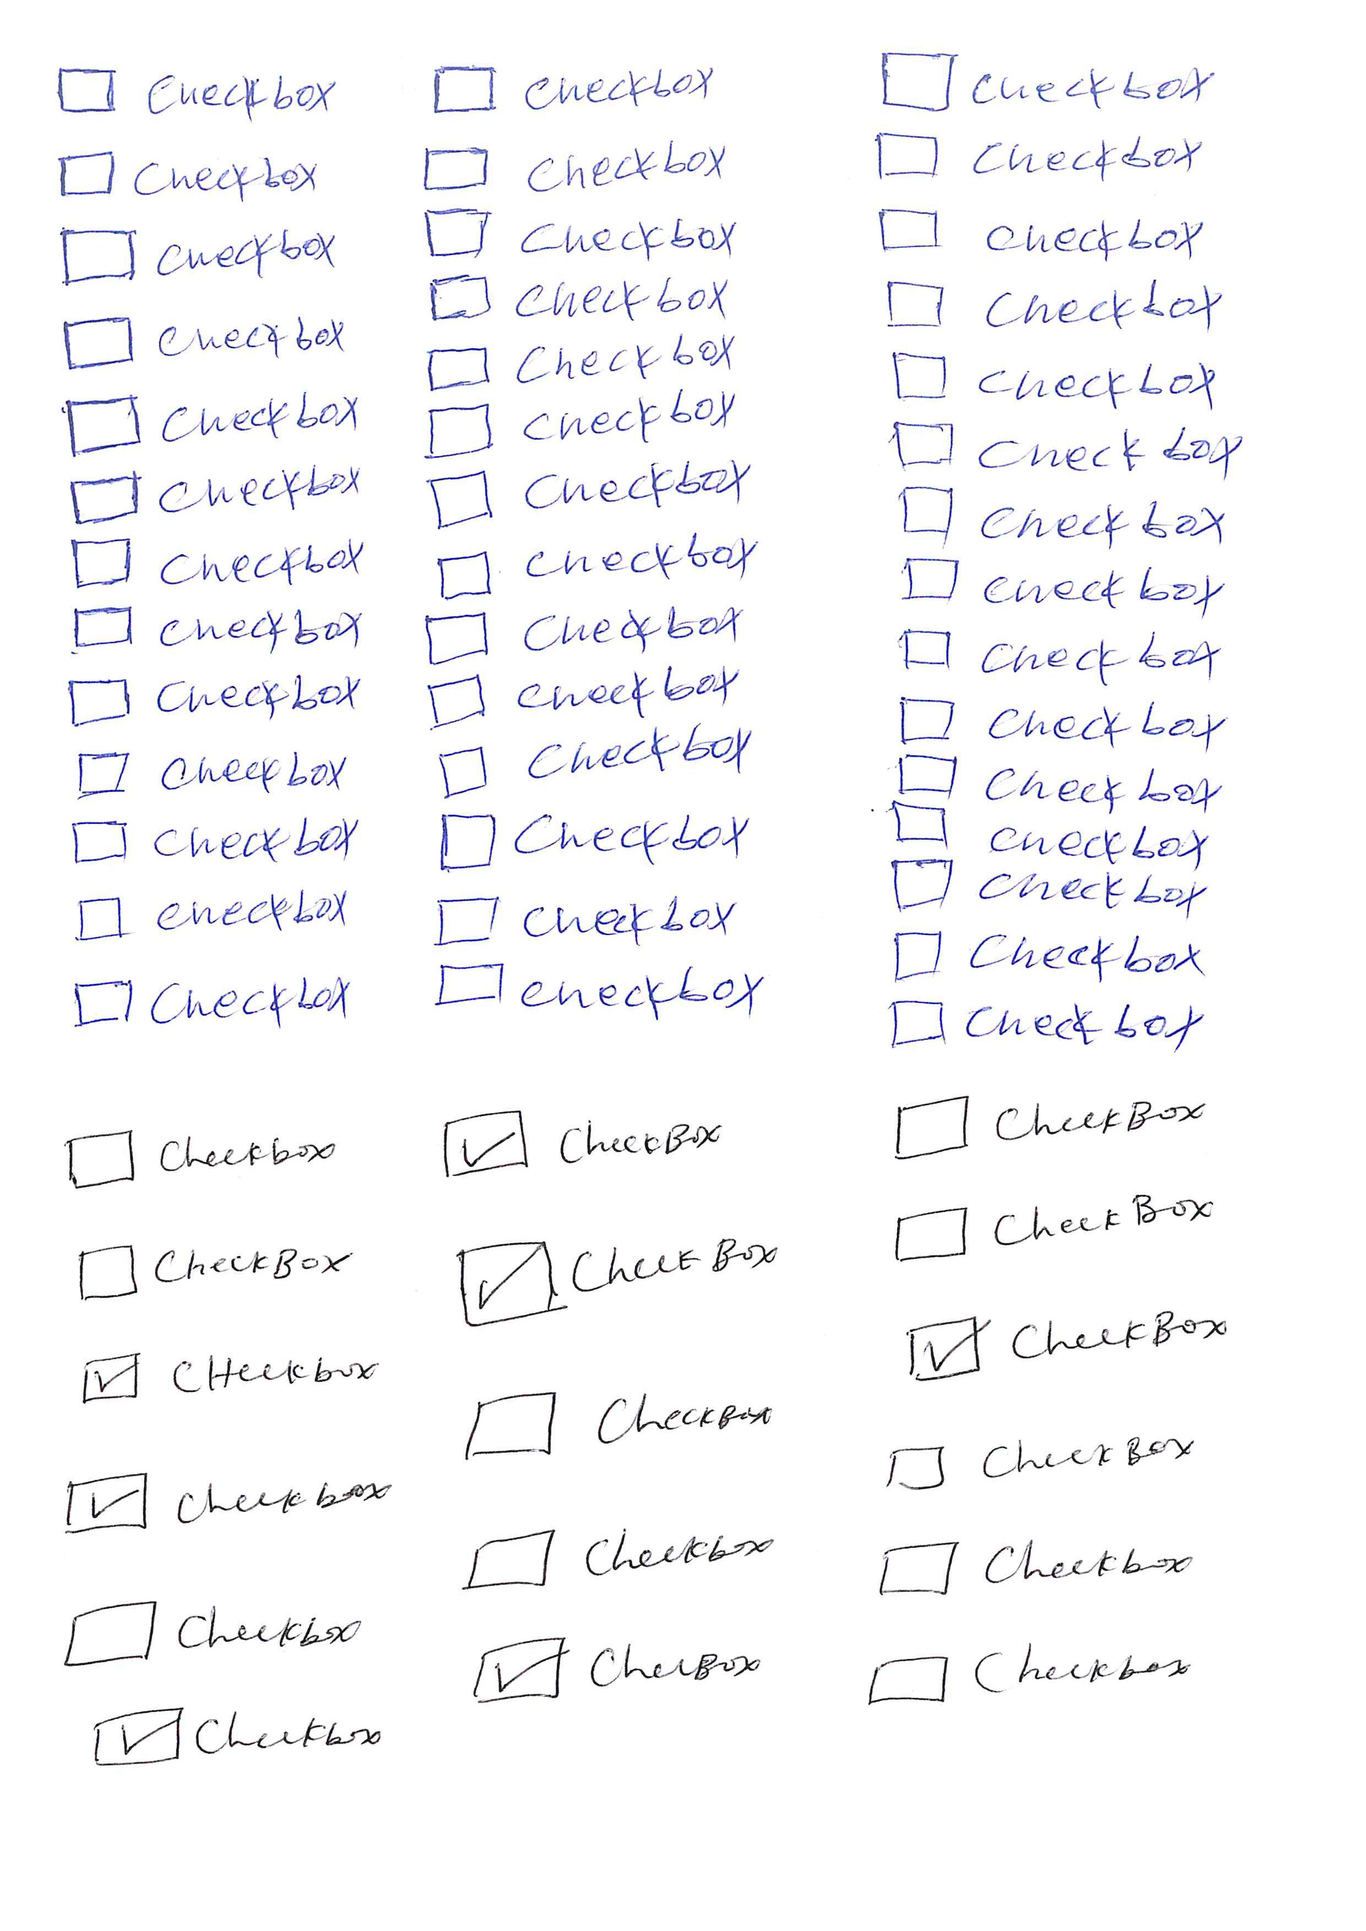Check Box: (451, 1235, 784, 1331), (891, 1181, 1214, 1269), (899, 1306, 1227, 1387), (891, 478, 1231, 552), (59, 1591, 364, 1672), (888, 1087, 1206, 1164), (877, 46, 1217, 117), (424, 461, 752, 534), (463, 1631, 769, 1708), (883, 413, 1242, 478), (55, 1470, 392, 1536), (458, 1524, 778, 1594), (457, 1391, 776, 1461), (439, 1104, 726, 1181), (61, 390, 362, 461), (86, 1700, 387, 1771), (884, 347, 1220, 411), (900, 554, 1227, 620), (897, 622, 1224, 688), (427, 393, 736, 461), (436, 809, 754, 874), (862, 1646, 1195, 1708), (872, 1536, 1197, 1598), (883, 276, 1226, 334), (881, 1428, 1199, 1490), (436, 739, 751, 801), (55, 220, 341, 288), (891, 689, 1227, 747), (432, 543, 757, 602), (62, 1127, 339, 1196), (418, 608, 733, 668), (891, 798, 1211, 858), (64, 464, 364, 526), (891, 856, 1211, 914), (877, 204, 1209, 259), (77, 1347, 377, 1408), (872, 126, 1203, 180), (426, 674, 732, 733), (52, 61, 334, 124), (887, 997, 1206, 1053), (418, 139, 729, 197), (426, 336, 736, 393), (59, 310, 346, 373), (891, 747, 1217, 801), (75, 1239, 352, 1303), (432, 963, 761, 1016), (421, 204, 738, 259), (429, 61, 713, 121), (891, 927, 1206, 980), (435, 892, 741, 946), (429, 272, 729, 327), (69, 971, 349, 1029), (67, 671, 356, 726), (69, 534, 367, 587), (74, 887, 350, 942), (71, 815, 359, 866), (56, 146, 321, 201), (74, 747, 349, 797), (71, 605, 362, 652)
